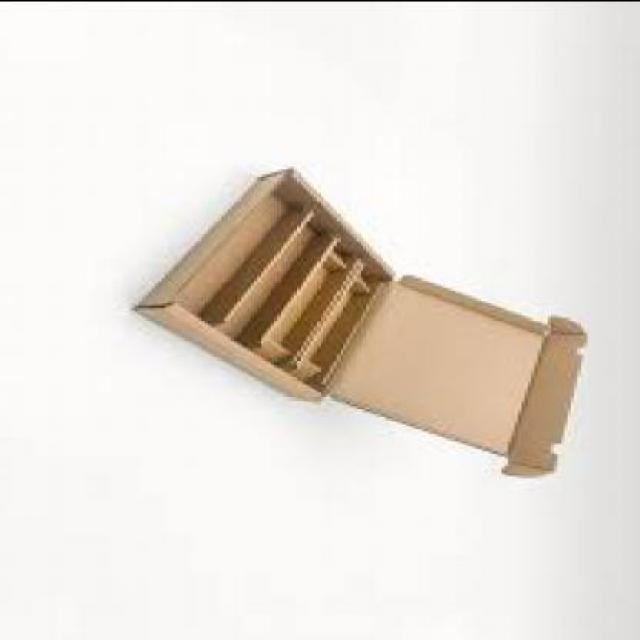box: (139, 163, 588, 472)
